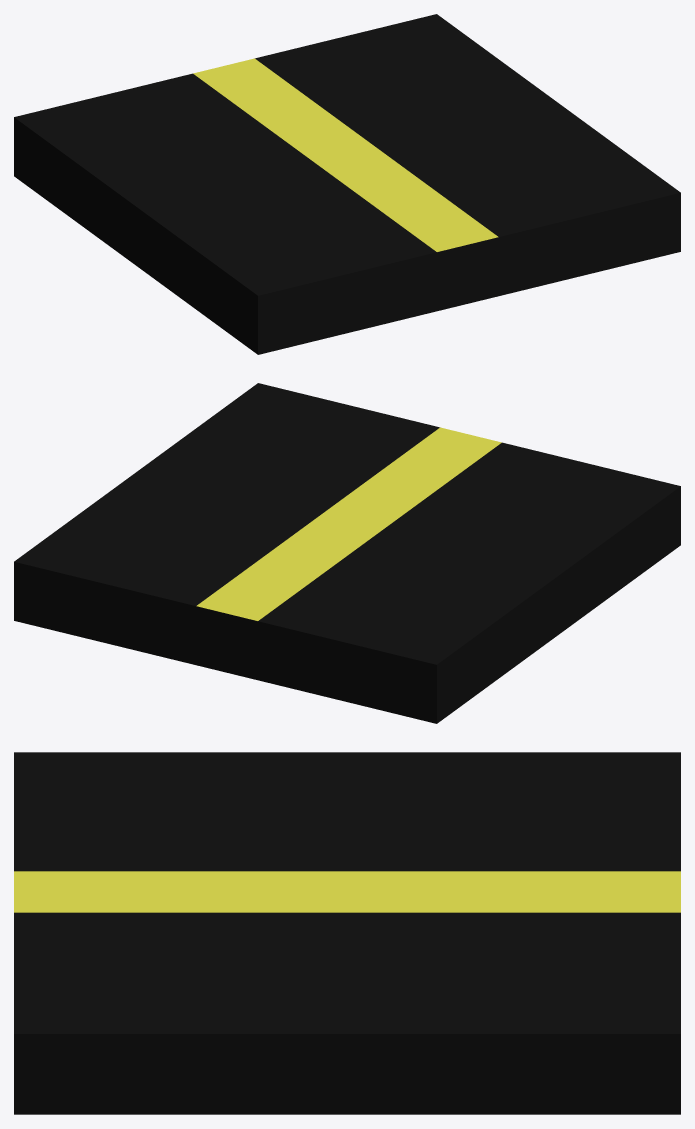
The model's file is Straight.fbx.
The picture shows the model from 3 angles, top to bottom: view 1: azimuth 30°, elevation 25°; view 2: azimuth 150°, elevation 25°; view 3: azimuth 270°, elevation 25°; orthographic projection. The views are drawn at different scales.
Visible parts, largest first — view 1: Cube; view 2: Cube; view 3: Cube.
Boxes of the visible parts, left/top/right/bottom form: Cube: left=14, top=14, right=680, bottom=354; Cube: left=14, top=383, right=680, bottom=723; Cube: left=14, top=752, right=680, bottom=1114.
Size of the model in its own units: 200 by 26.72 by 200.
